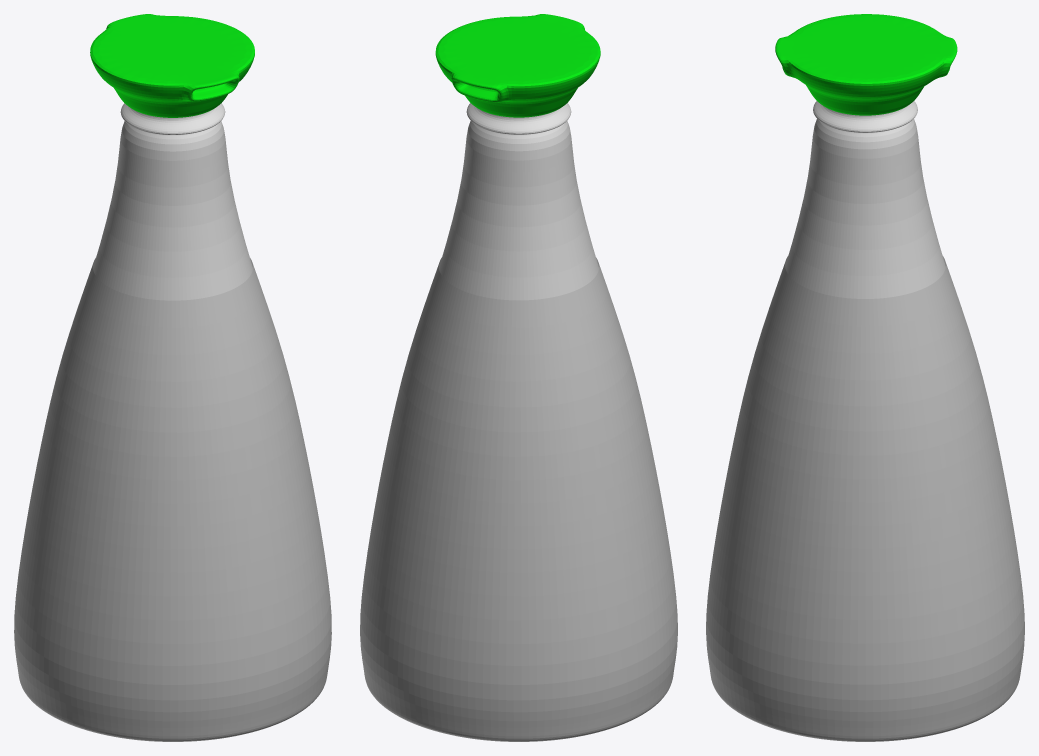
Rendered from vinegar1.fbx.
The picture shows the model from 3 angles, left to right: view 1: azimuth 30°, elevation 25°; view 2: azimuth 150°, elevation 25°; view 3: azimuth 270°, elevation 25°; orthographic projection.
Visible parts, largest first — view 1: Cylinder; view 2: Cylinder; view 3: Cylinder.
Boxes of the visible parts, bbox=[...] form: Cylinder: bbox=[14, 14, 331, 741]; Cylinder: bbox=[360, 14, 677, 741]; Cylinder: bbox=[706, 14, 1024, 741].
Size of the model in its own units: 98.27 by 217 by 98.27.
